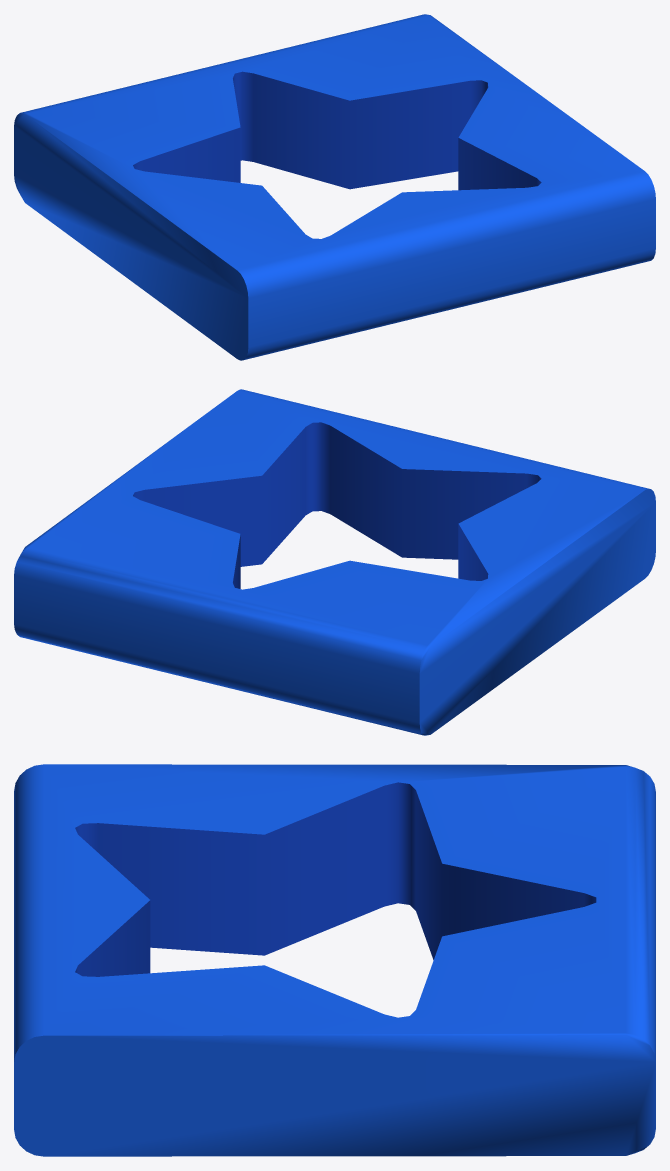
Rendered from MoldStar.fbx.
The picture shows the model from 3 angles, top to bottom: view 1: azimuth 30°, elevation 25°; view 2: azimuth 150°, elevation 25°; view 3: azimuth 270°, elevation 25°; orthographic projection. The views are drawn at different scales.
Parts seen in each view (by area): view 1: MoldStar.001; view 2: MoldStar.001; view 3: MoldStar.001.
Boxes of the visible parts, x1,y1,x2,y2 form: MoldStar.001: [14, 14, 655, 360]; MoldStar.001: [14, 389, 655, 735]; MoldStar.001: [14, 764, 655, 1156].
Bounding box in the file's own units: 3 × 0.6225 × 2.99.
